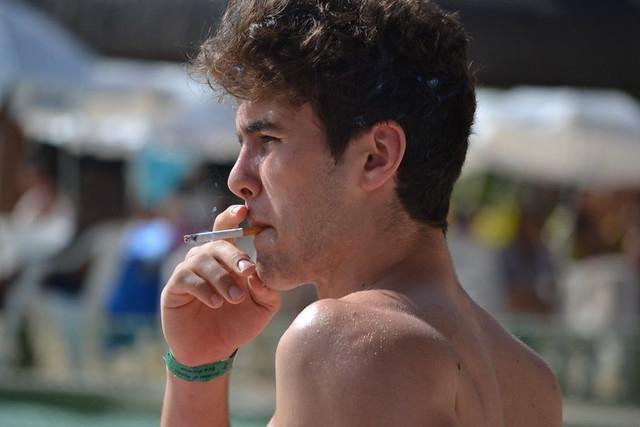cigarette: (181, 224, 267, 247)
